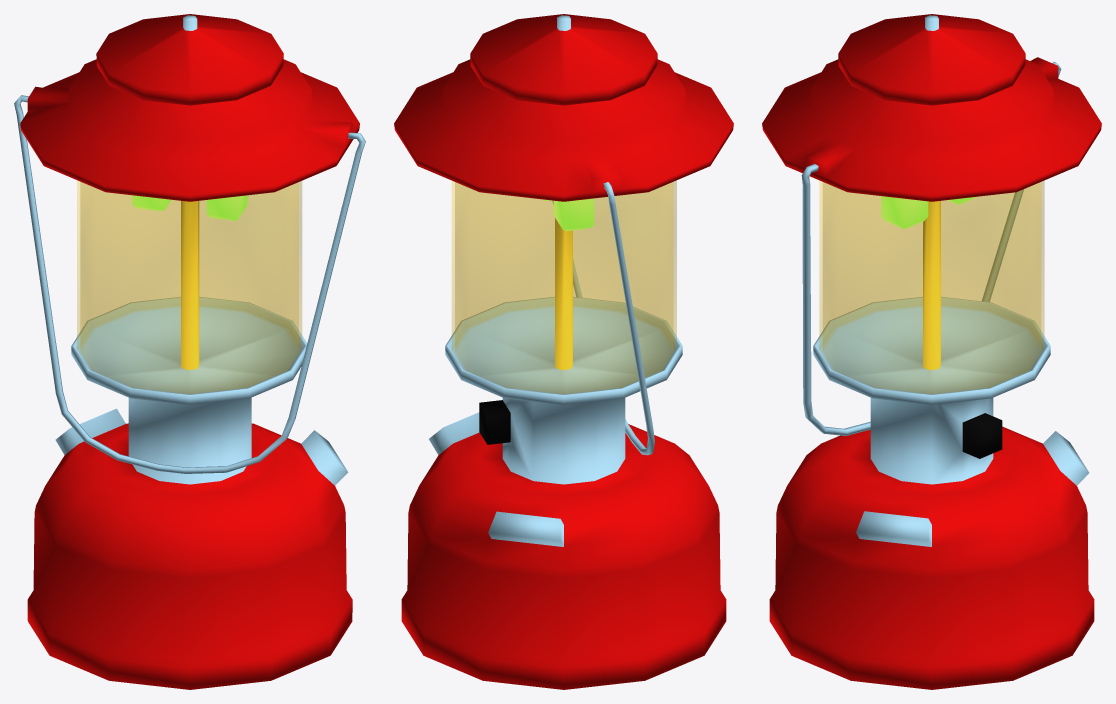
Rendered from 953dc6de-23d4-4db1-b346-facfa7462527.glb.
3 renders of one model, left to right at view 1: azimuth 30°, elevation 25°; view 2: azimuth 150°, elevation 25°; view 3: azimuth 270°, elevation 25°, orthographic.
Parts seen in each view (by area): view 1: LPLantern; view 2: LPLantern; view 3: LPLantern.
Part boxes in pixels (box(x1,y1,x2,y2)): LPLantern: box(14, 14, 365, 689); LPLantern: box(394, 14, 733, 689); LPLantern: box(762, 14, 1101, 689).
Bounding box in the file's own units: 0.2513 × 0.4921 × 0.2513.
3 materials, 2 textured.
